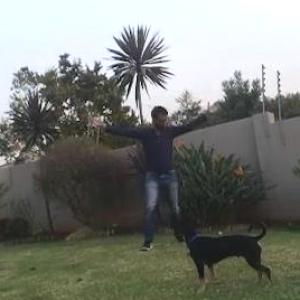takeoff: (86, 104, 216, 239)
